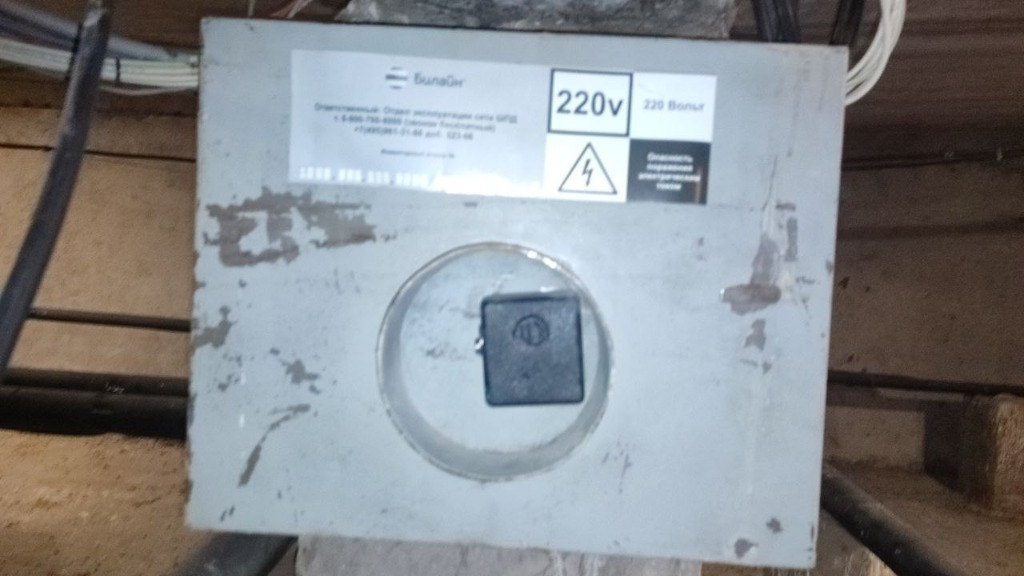shta-3: (177, 13, 853, 570)
